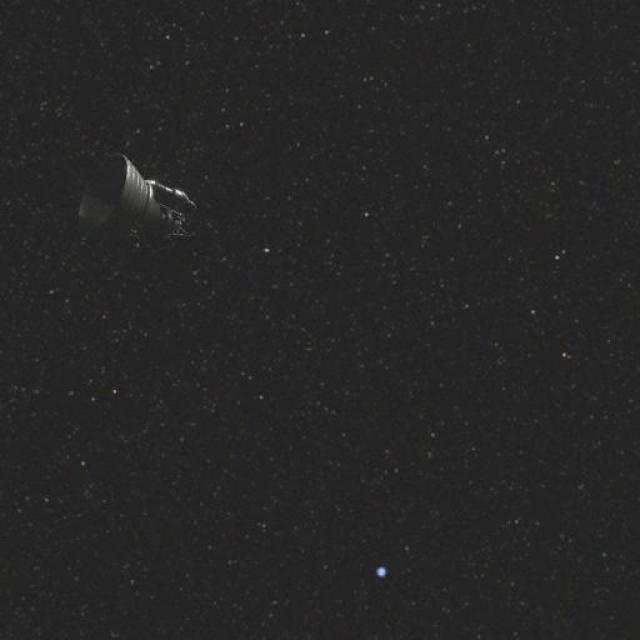debris: (64, 134, 214, 282)
